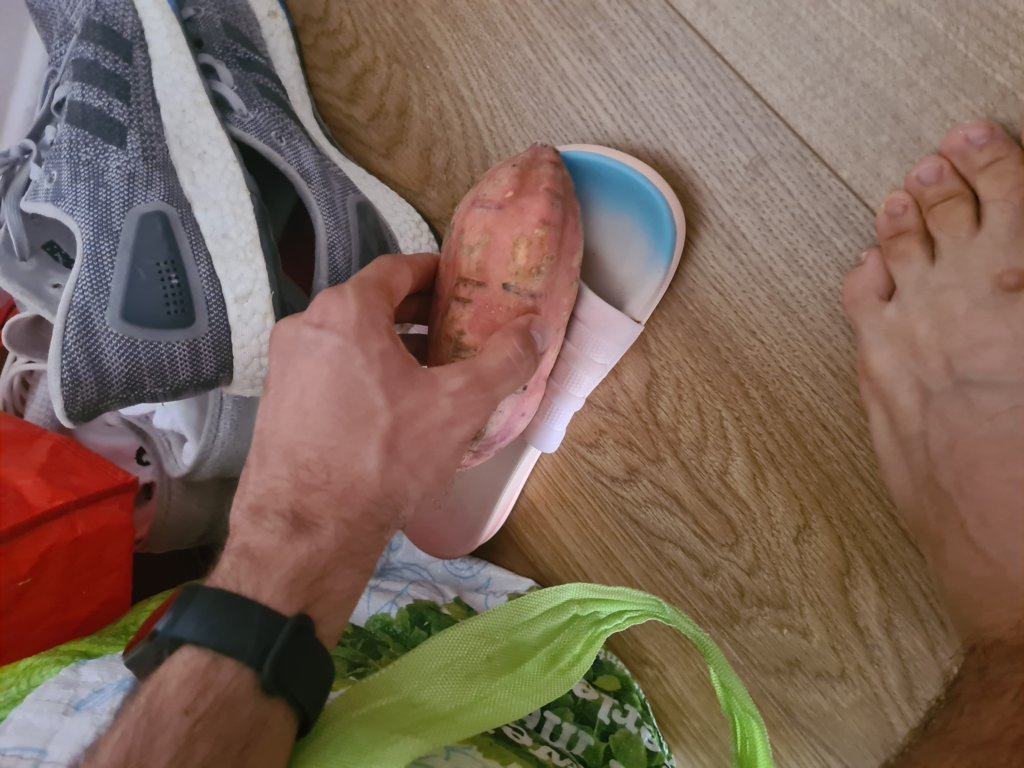Sweet Potatow: (424, 138, 588, 469)
